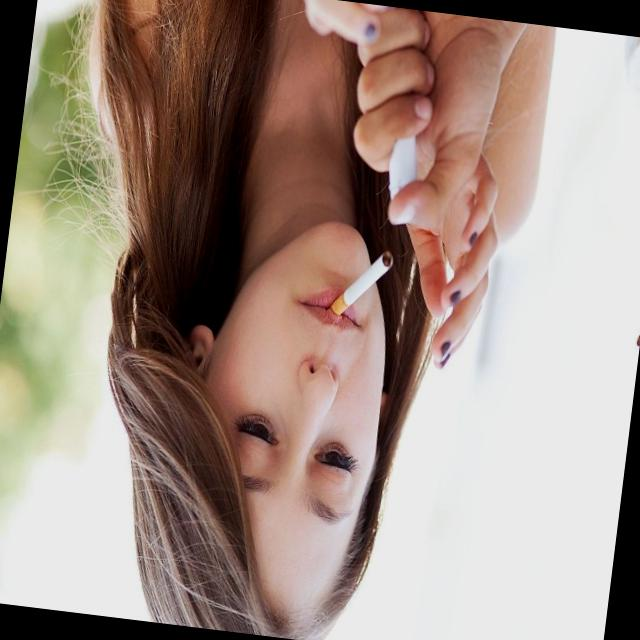smoke: (324, 242, 398, 332)
